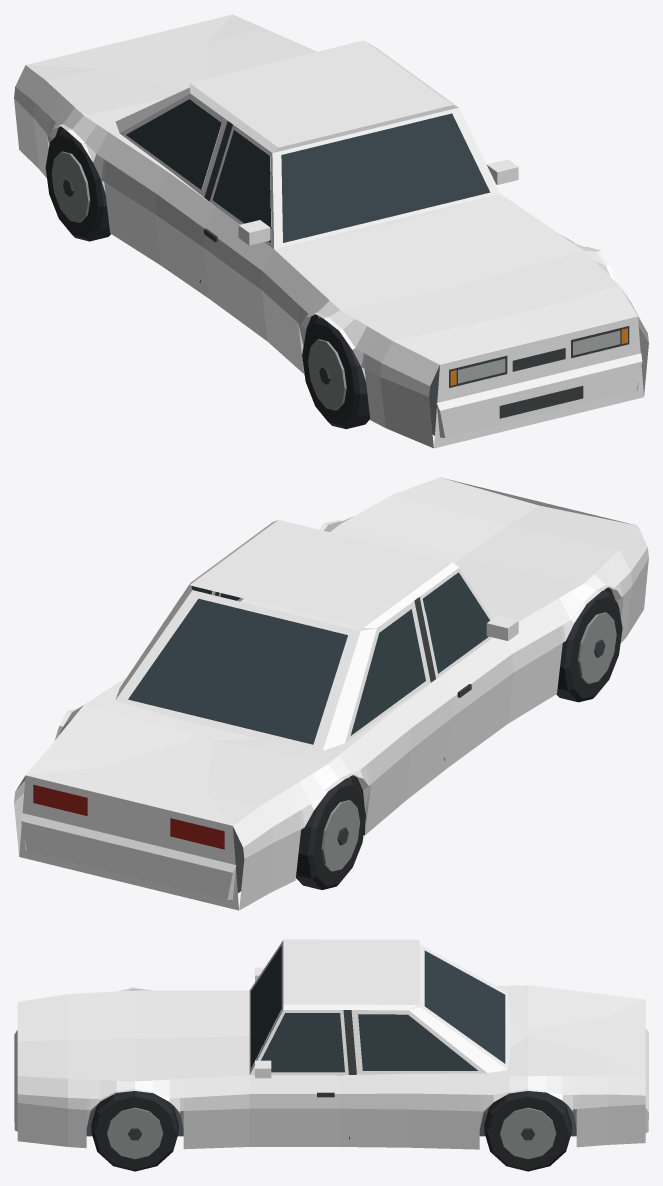
The model's file is hayase_komorebi_s_v.glb.
3 renders of one model, top to bottom at view 1: azimuth 30°, elevation 25°; view 2: azimuth 150°, elevation 25°; view 3: azimuth 270°, elevation 25°, orthographic. The views are drawn at different scales.
Parts seen in each view (by area): view 1: hayase_komorebi_s_v; view 2: hayase_komorebi_s_v; view 3: hayase_komorebi_s_v.
Part boxes in pixels (x1=…): hayase_komorebi_s_v: x1=14, y1=14, x2=648, y2=448; hayase_komorebi_s_v: x1=14, y1=477, x2=648, y2=910; hayase_komorebi_s_v: x1=14, y1=939, x2=648, y2=1171.
Size of the model in its own units: 1.82 by 1.23 by 4.7.
Materials: 8 (1 with a texture image).
